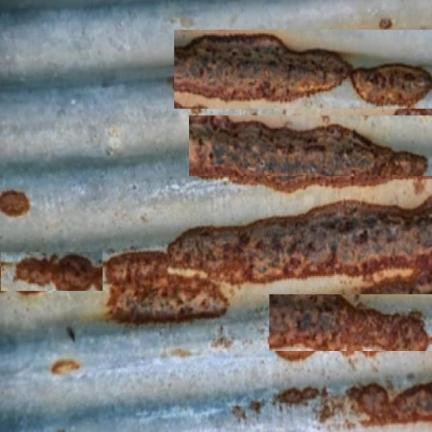besi_tidak_karat: (0, 0, 431, 263)
karat: (15, 198, 431, 323)
